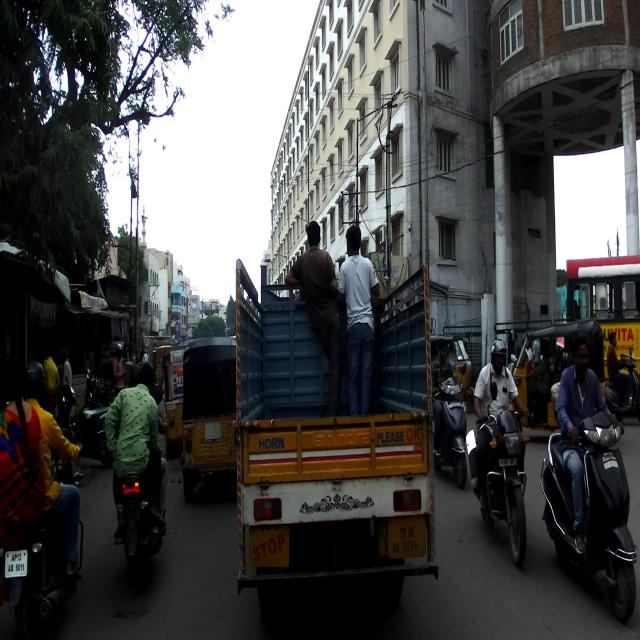autorickshaw: (507, 318, 605, 433), (181, 336, 235, 503)
motorcycle: (1, 446, 85, 637), (465, 381, 534, 568), (108, 421, 172, 572)
scooter: (538, 408, 638, 623), (429, 363, 470, 488)
truck: (232, 258, 438, 636)
